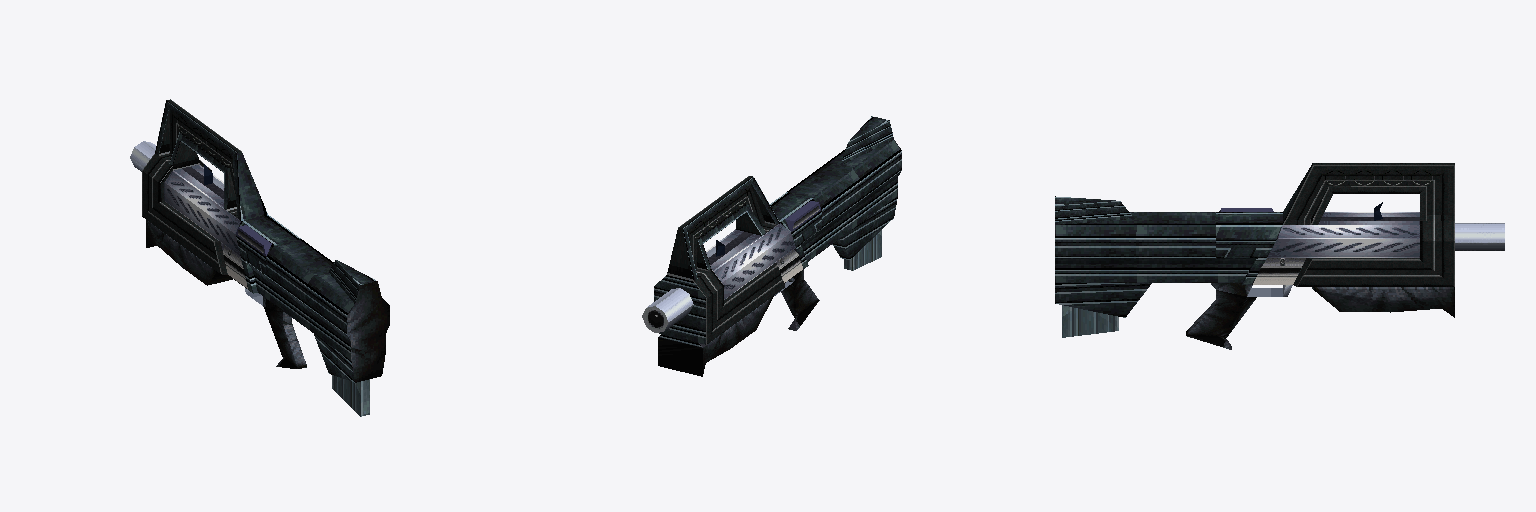
3 views of the same model, side by side, from view 1: azimuth 30°, elevation 25°; view 2: azimuth 150°, elevation 25°; view 3: azimuth 270°, elevation 25° (orthographic).
Visible parts, largest first — view 1: material_1, material_0, material_4, material_8, material_2, material_11, material_3, material_10, material_6; view 2: material_1, material_4, material_0, material_8, material_2, material_3, material_10, material_11, material_6; view 3: material_1, material_4, material_0, material_8, material_2, material_3, material_10, material_11, material_6.
Part boxes in pixels (x1,y1,x2,y2): material_1: (155, 101, 375, 382); material_0: (146, 219, 389, 382); material_4: (142, 99, 241, 274); material_8: (164, 164, 240, 256); material_2: (236, 152, 300, 293); material_11: (332, 375, 369, 416); material_3: (130, 141, 262, 305); material_10: (171, 110, 232, 167); material_6: (223, 230, 263, 288); material_1: (654, 116, 901, 347); material_4: (667, 176, 784, 344); material_0: (658, 270, 819, 376); material_8: (706, 223, 795, 299); material_2: (770, 192, 821, 269); material_3: (647, 232, 797, 331); material_10: (687, 186, 749, 238); material_11: (844, 230, 881, 270); material_6: (776, 206, 819, 283); material_1: (1055, 196, 1303, 317); material_4: (1283, 163, 1454, 286); material_0: (1186, 283, 1454, 349); material_8: (1267, 212, 1419, 257); material_2: (1216, 163, 1312, 284); material_3: (1247, 217, 1504, 296); material_10: (1320, 170, 1446, 185); material_11: (1062, 305, 1118, 337); material_6: (1253, 258, 1305, 284).
Size of the model in its own units: 39.78 by 134 by 297.
Materials: 12 (12 with a texture image).